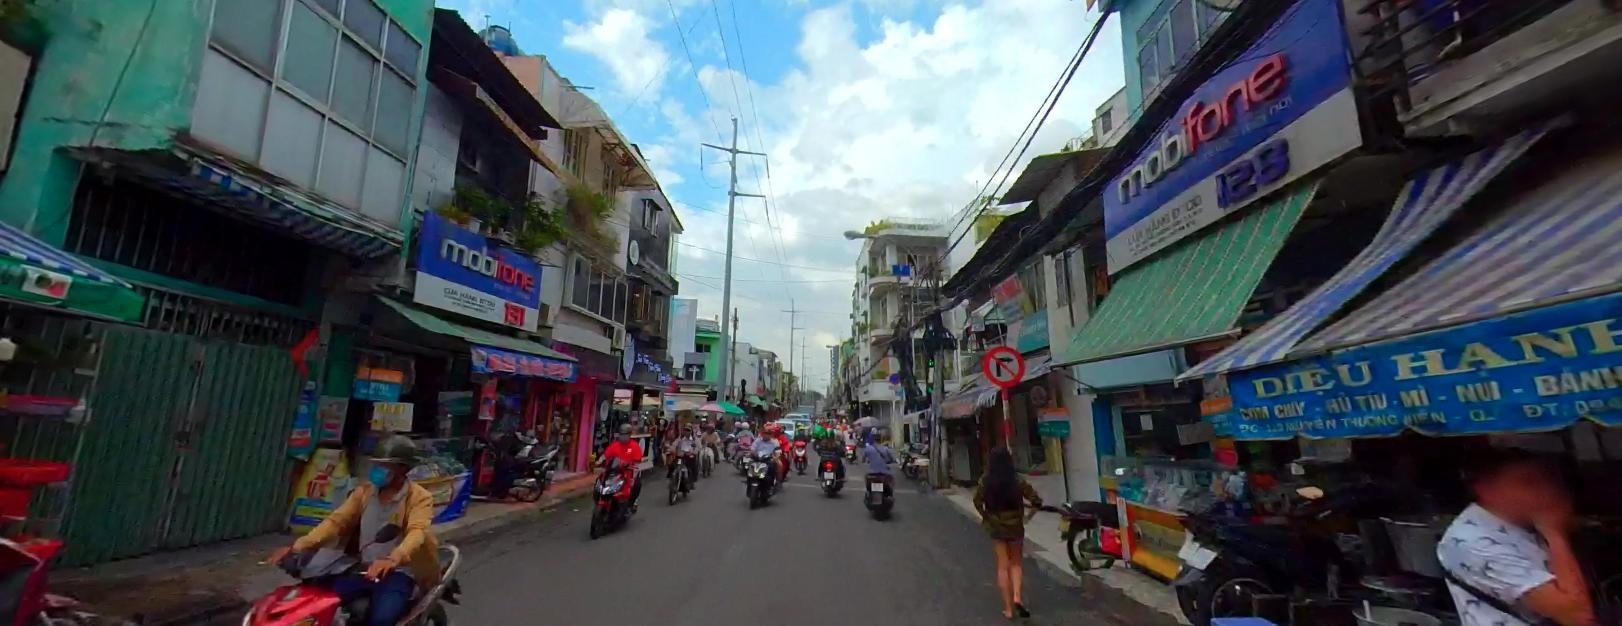Cam dung va do: (888, 371, 899, 382)
Cam re: (982, 345, 1025, 387)
